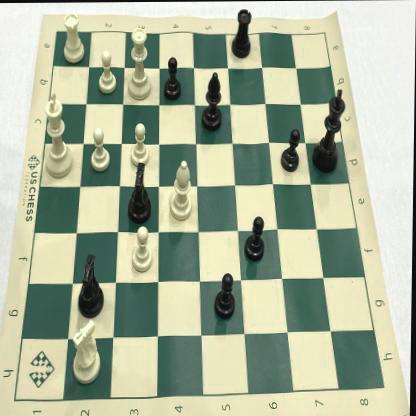black-bishop: (198, 66, 229, 136)
black-king: (310, 81, 349, 178)
black-knight: (74, 248, 108, 320), (124, 159, 157, 228)
black-pawn: (213, 265, 240, 323), (242, 212, 269, 267), (160, 51, 186, 105), (278, 124, 303, 176)
black-rook: (228, 5, 255, 65)
white-bishop: (166, 153, 196, 224)
white-king: (38, 89, 78, 180)
white-knight: (69, 315, 104, 384)
white-pawn: (126, 222, 157, 278), (88, 122, 115, 176), (96, 47, 122, 97), (130, 118, 154, 170)
white-queen: (126, 23, 156, 103)
white-rook: (58, 9, 89, 67)
